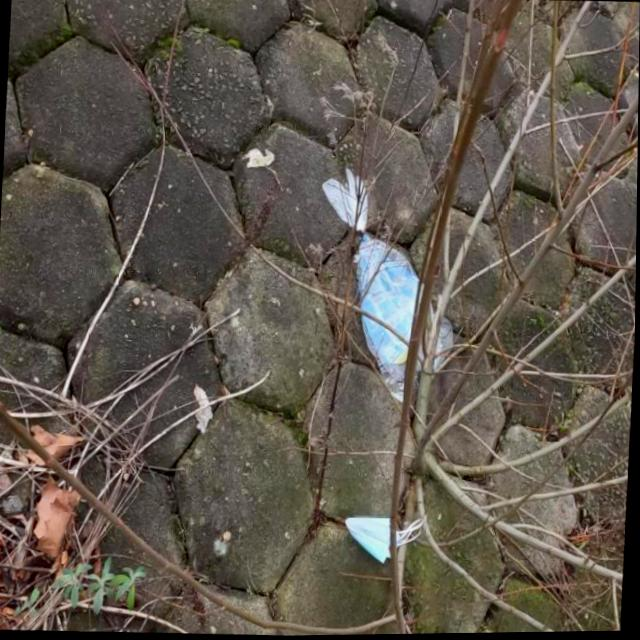Mask: (342, 510, 426, 570)
Paper: (192, 382, 217, 435)
